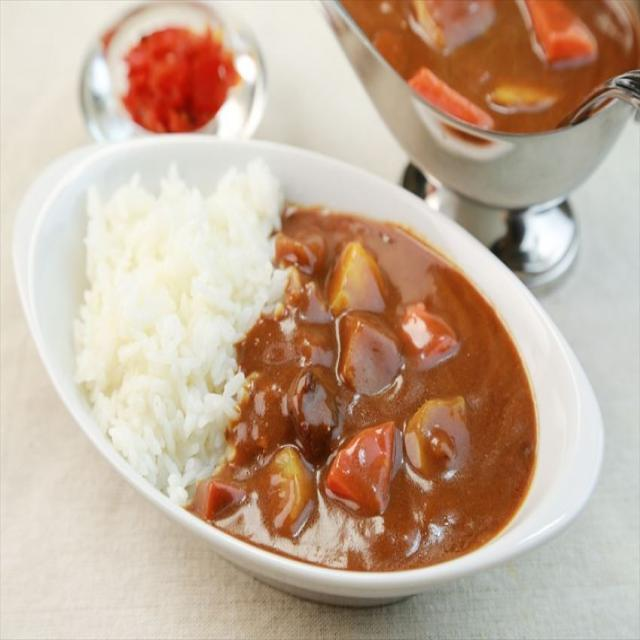cac loai rau cu: (403, 398, 485, 503), (330, 418, 404, 528), (327, 308, 404, 404), (259, 442, 321, 546), (329, 237, 391, 320), (403, 304, 461, 379)
com: (74, 157, 290, 520)
com ca ri: (14, 131, 611, 606)
thit bo: (282, 355, 346, 451)
